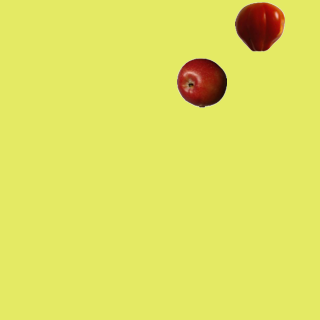Apple Braeburn: (176, 57, 226, 107)
Tomato 1: (234, 1, 284, 51)
